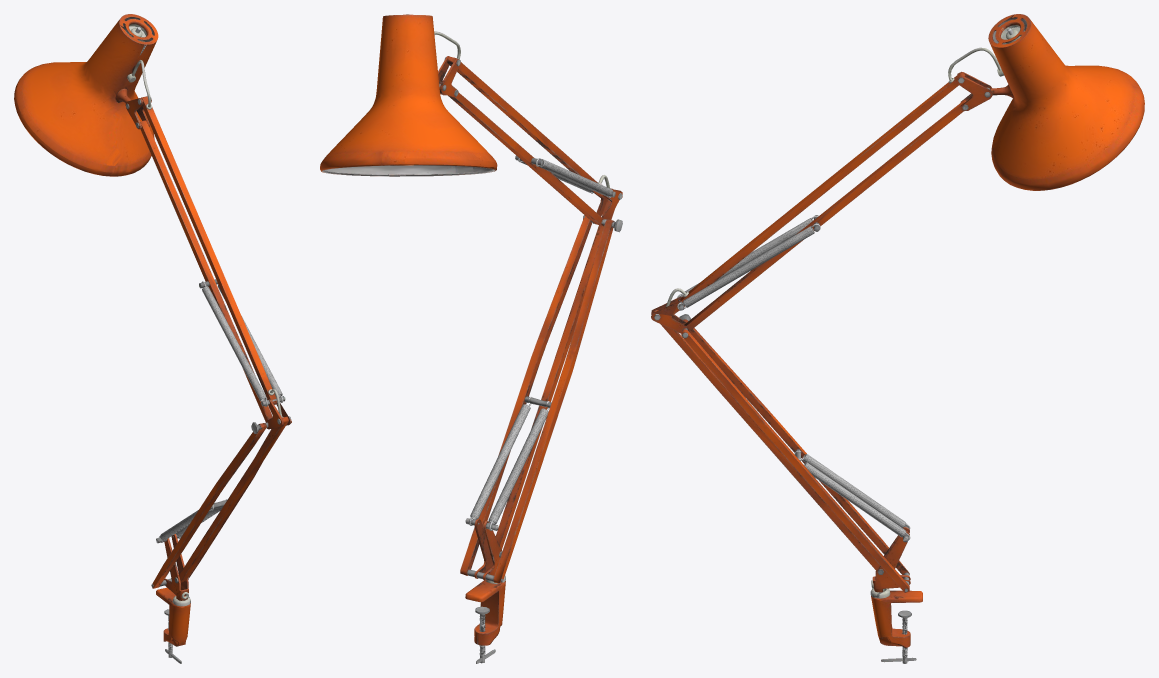
File: DeskLampArm.obj
3 renders of one model, left to right at view 1: azimuth 30°, elevation 25°; view 2: azimuth 150°, elevation 25°; view 3: azimuth 270°, elevation 25°, orthographic. The views are drawn at different scales.
Parts seen in each view (by area): view 1: Lamp; view 2: Lamp; view 3: Lamp.
Part boxes in pixels (x1,y1,x2,y2): Lamp: [14, 14, 291, 663]; Lamp: [320, 14, 622, 663]; Lamp: [651, 14, 1144, 663].
Size of the model in its own units: 0.2018 by 0.8926 by 0.6136.
Materials: 2 (2 with a texture image).
